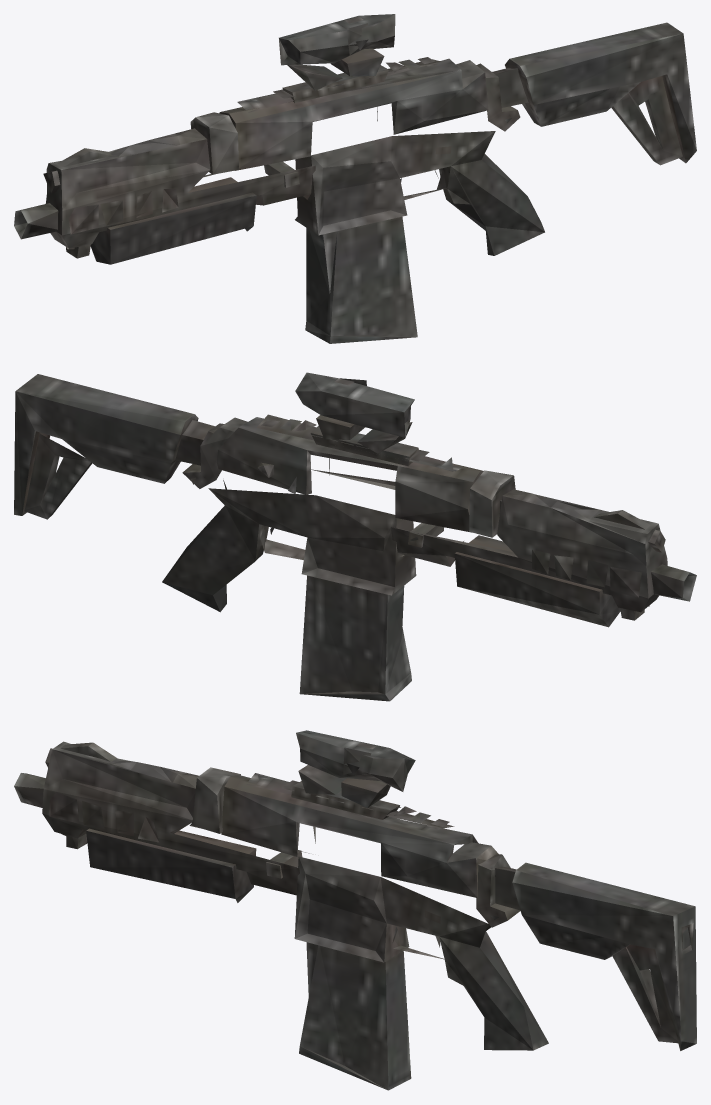
Rendered from prop.rifle_guard.glb.
3 renders of one model, top to bottom at view 1: azimuth 30°, elevation 25°; view 2: azimuth 150°, elevation 25°; view 3: azimuth 330°, elevation 25°, orthographic. The views are drawn at different scales.
Parts seen in each view (by area): view 1: body; view 2: body; view 3: body.
Boxes of the visible parts, bbox=[...] form: body: bbox=[14, 14, 696, 343]; body: bbox=[14, 372, 696, 701]; body: bbox=[14, 730, 696, 1090].
Size of the model in its own units: 0.55 by 0.2513 by 0.0538.
Materials: 1 (1 with a texture image).
